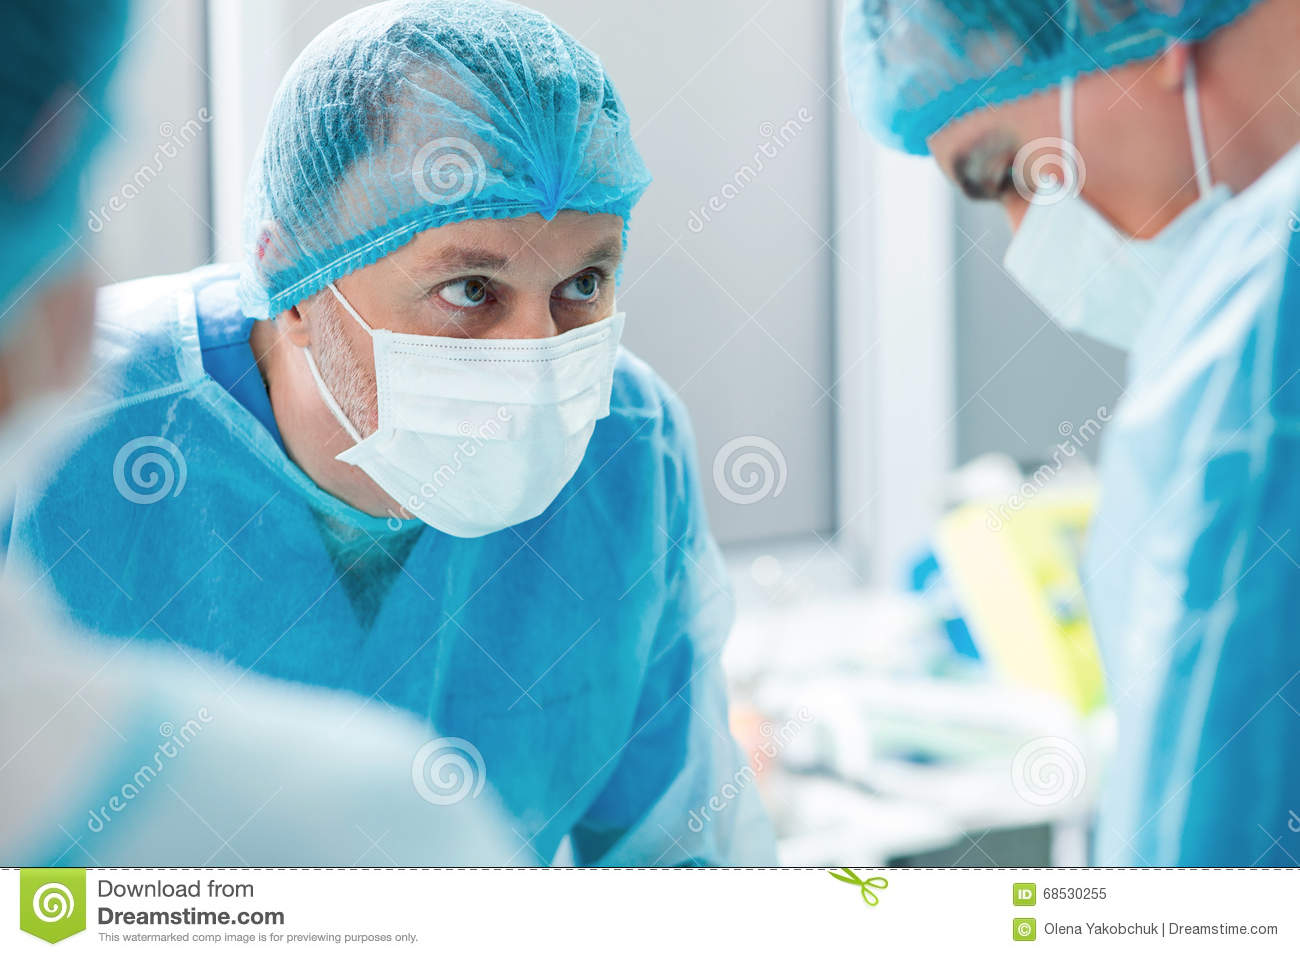mask: (364, 335, 632, 552)
